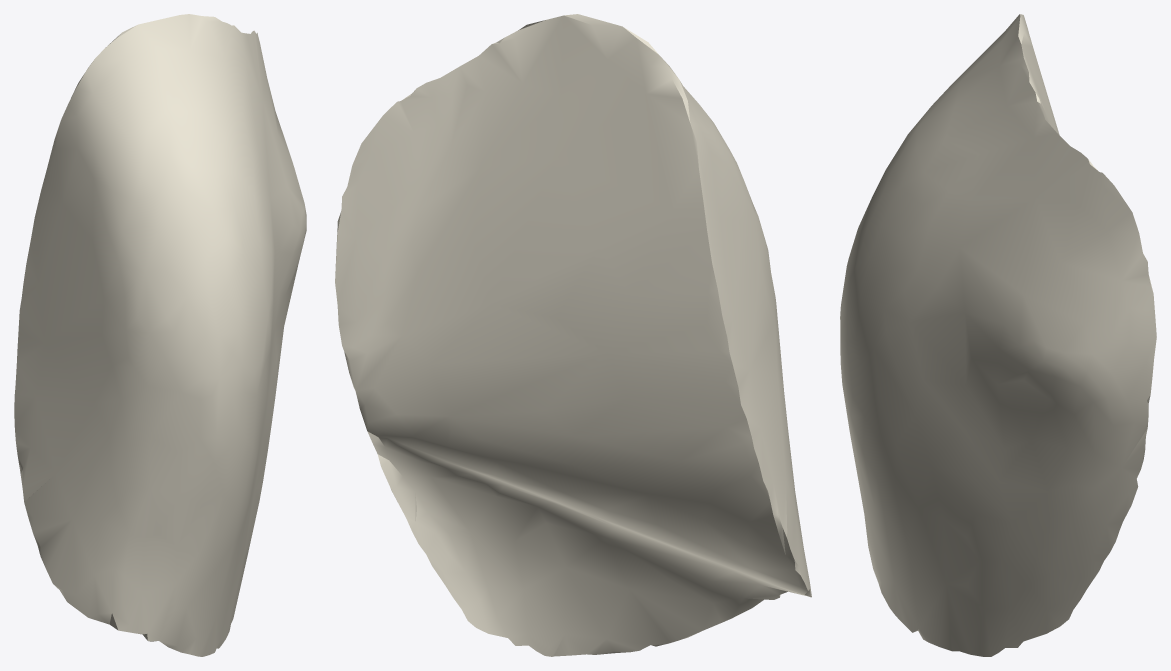
Rendered from fma23490_mm1895.glb.
3 views of the same model, side by side, from view 1: azimuth 30°, elevation 25°; view 2: azimuth 150°, elevation 25°; view 3: azimuth 270°, elevation 25° (orthographic). The views are drawn at different scales.
Parts seen in each view (by area): view 1: FMA23490_MM1895; view 2: FMA23490_MM1895; view 3: FMA23490_MM1895.
Part boxes in pixels (box(x1,y1,x2,y2)): FMA23490_MM1895: box(14, 14, 306, 656); FMA23490_MM1895: box(335, 14, 811, 656); FMA23490_MM1895: box(840, 14, 1156, 656).
Size of the model in its own units: 0.018 by 0.0315 by 0.0149.
